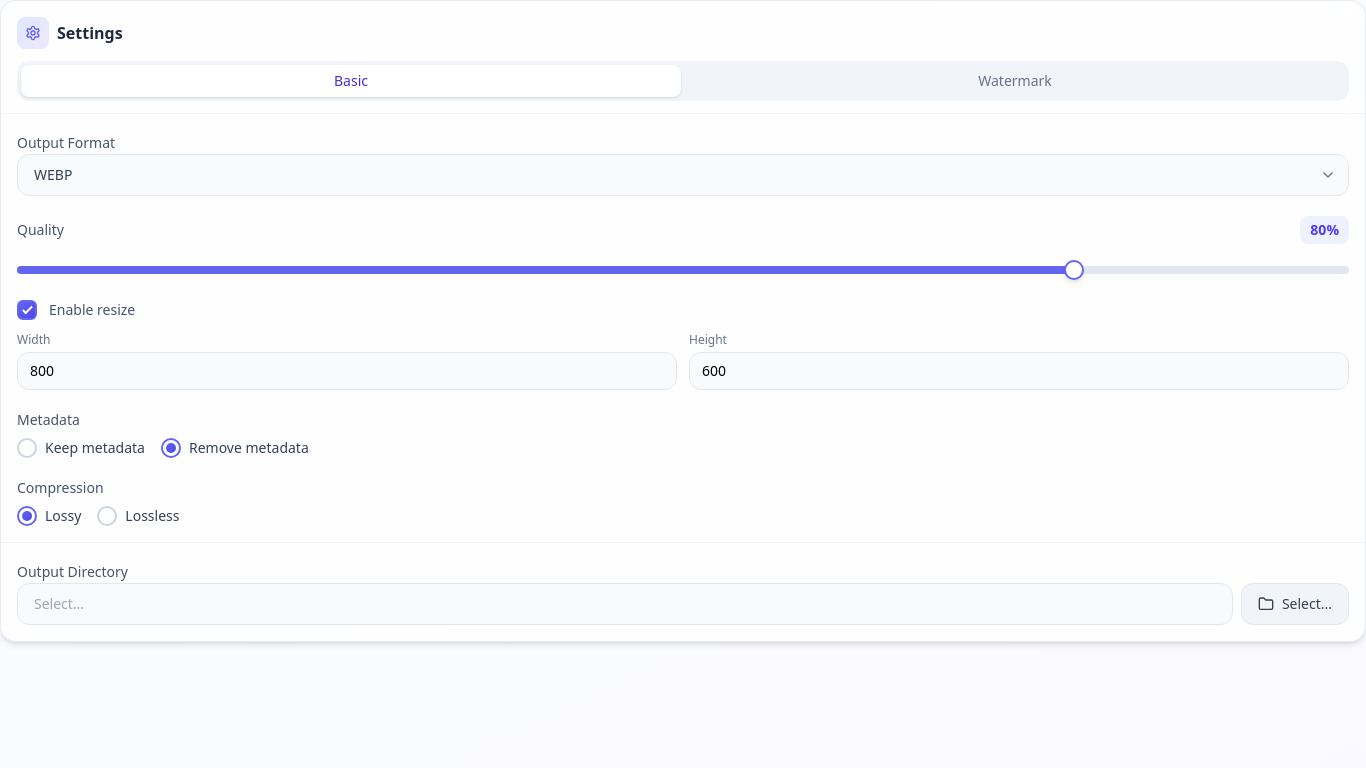
Test: SettingsPanel › リサイズ › いったん無効にして戻しても、元の値は復元されない
Click the checkbox labelled "Enable resize" at point(27, 310), box top-left (17, 300), bottom-right (37, 320)
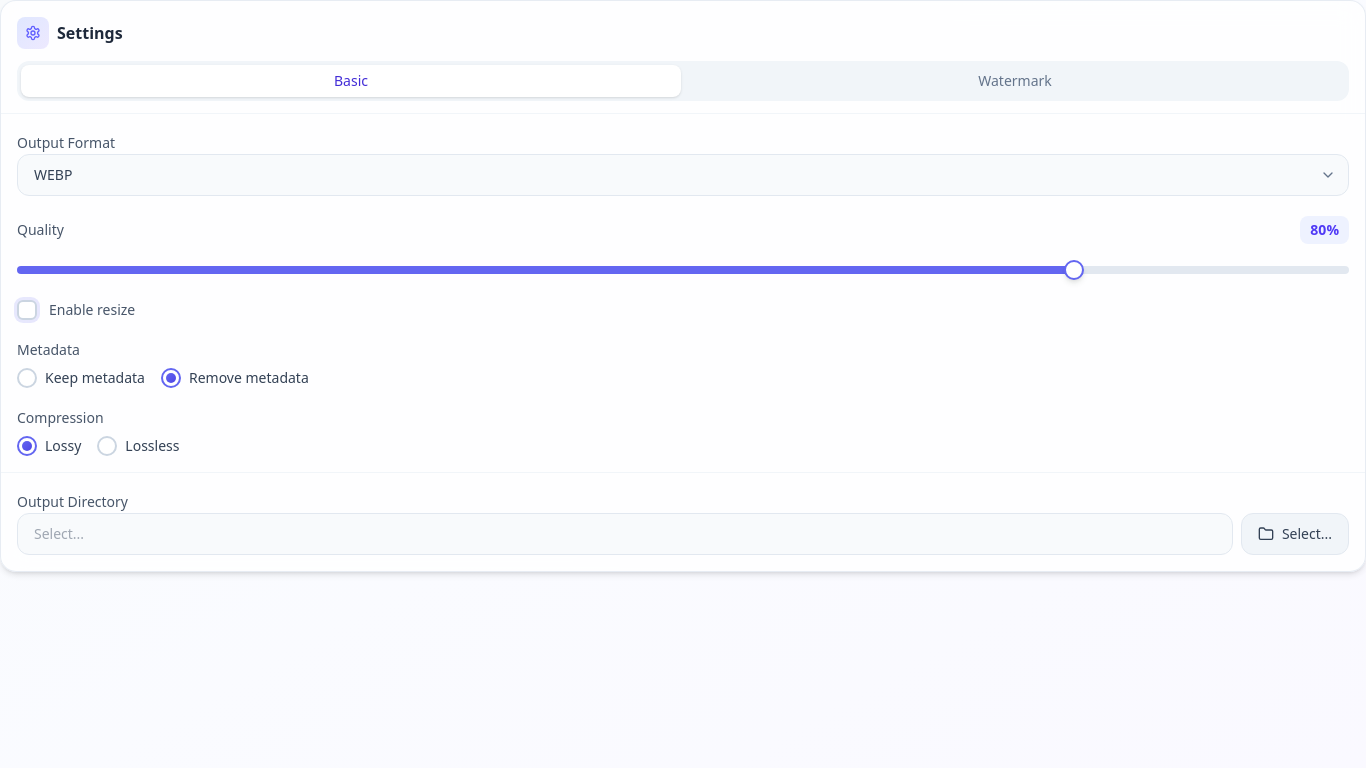
Click the checkbox labelled "Enable resize" at point(27, 310), box top-left (17, 300), bottom-right (37, 320)
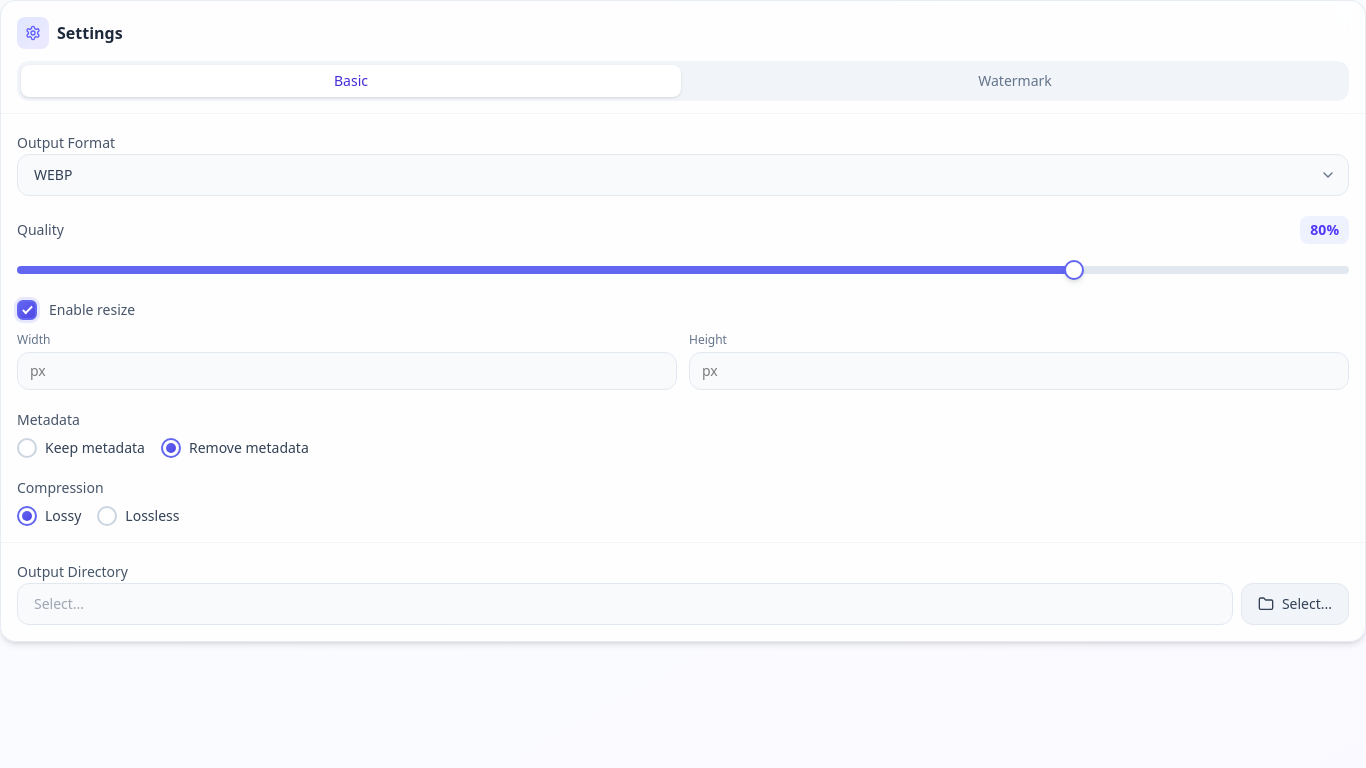
Result: the number field labelled "Width" is not empty at top-left (17, 352), bottom-right (677, 390)
